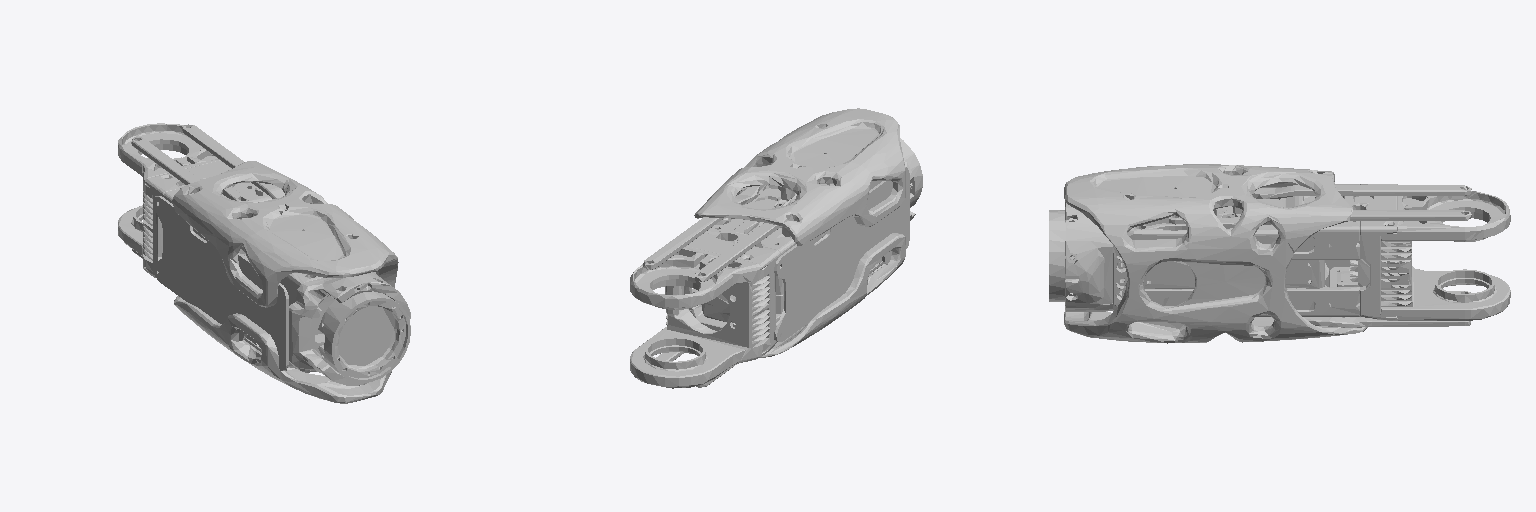
Rendered from wristYawLeft.obj.
3 renders of one model, left to right at view 1: azimuth 30°, elevation 25°; view 2: azimuth 150°, elevation 25°; view 3: azimuth 270°, elevation 25°, orthographic.
Parts seen in each view (by area): view 1: wristYawLeft; view 2: wristYawLeft; view 3: wristYawLeft.
Boxes of the visible parts, x1,y1,x2,y2 form: wristYawLeft: [118, 123, 410, 403]; wristYawLeft: [630, 108, 922, 388]; wristYawLeft: [1049, 164, 1510, 343].
Bounding box in the file's own units: 0.0725 × 0.0761 × 0.2264.